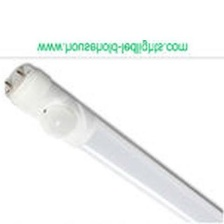light_bulb: (2, 61, 224, 224)
